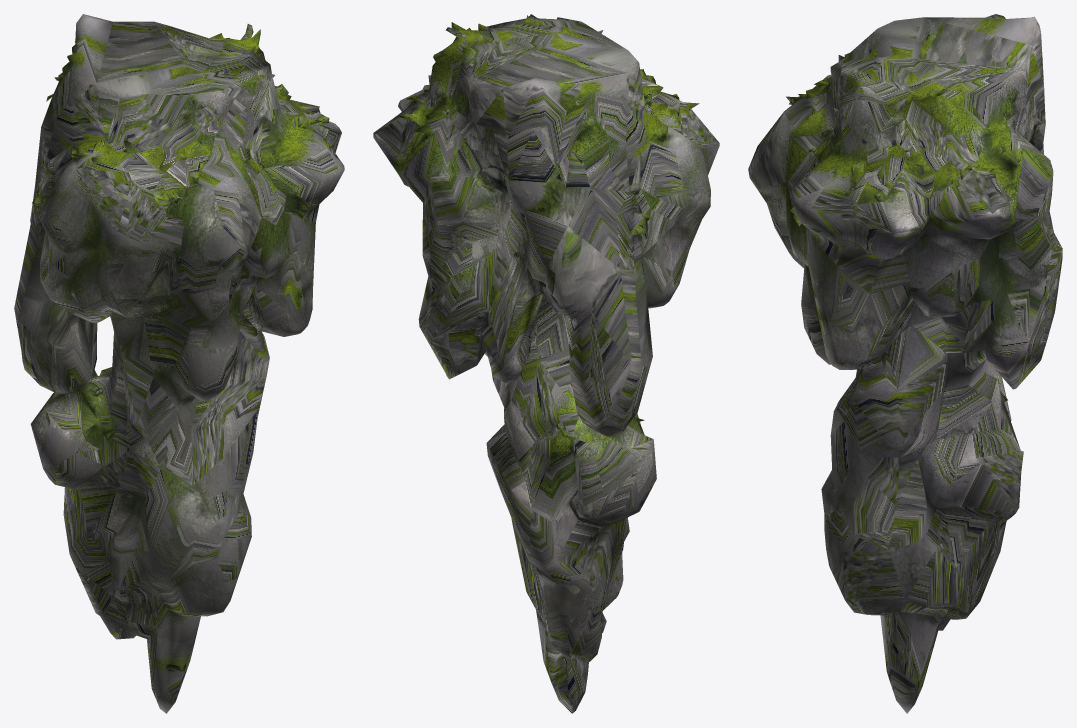
File: Mossy_Monolith.glb
3 renders of one model, left to right at view 1: azimuth 30°, elevation 25°; view 2: azimuth 150°, elevation 25°; view 3: azimuth 270°, elevation 25°, orthographic. The views are drawn at different scales.
Visible parts, largest first — view 1: Mossy_Monolith; view 2: Mossy_Monolith; view 3: Mossy_Monolith.
Boxes of the visible parts, <box> form: Mossy_Monolith: <box>14,14,344,713</box>; Mossy_Monolith: <box>373,14,719,713</box>; Mossy_Monolith: <box>748,14,1062,713</box>.
Bounding box in the file's own units: 0.8964 × 1.9 × 0.7905.
1 material, 1 textured.
